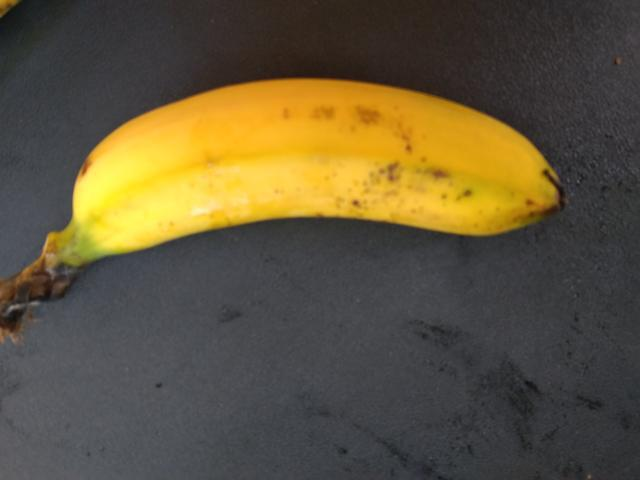ripe: (57, 57, 586, 299)
